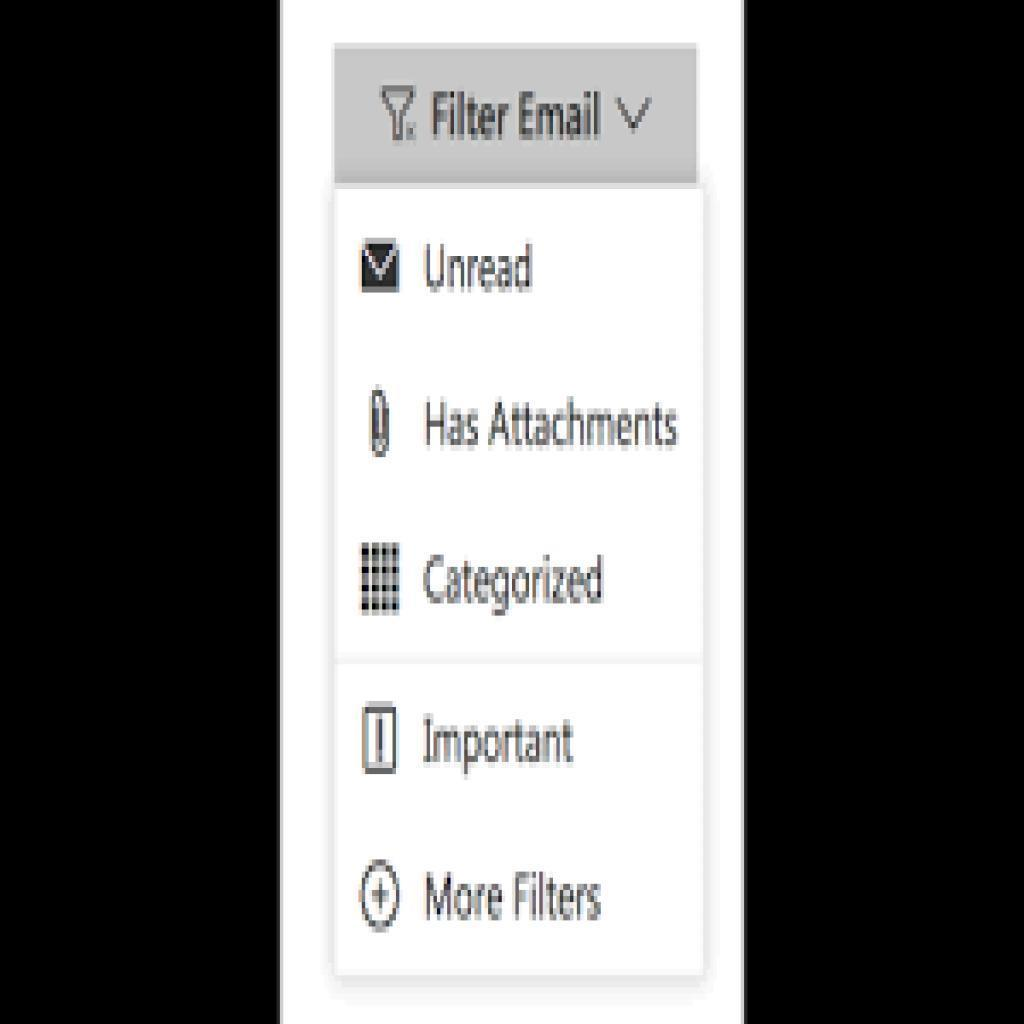dropdown: (335, 47, 699, 185)
icon: (353, 536, 408, 632), (355, 694, 405, 785), (353, 856, 407, 939), (357, 230, 407, 306), (363, 381, 399, 470)
